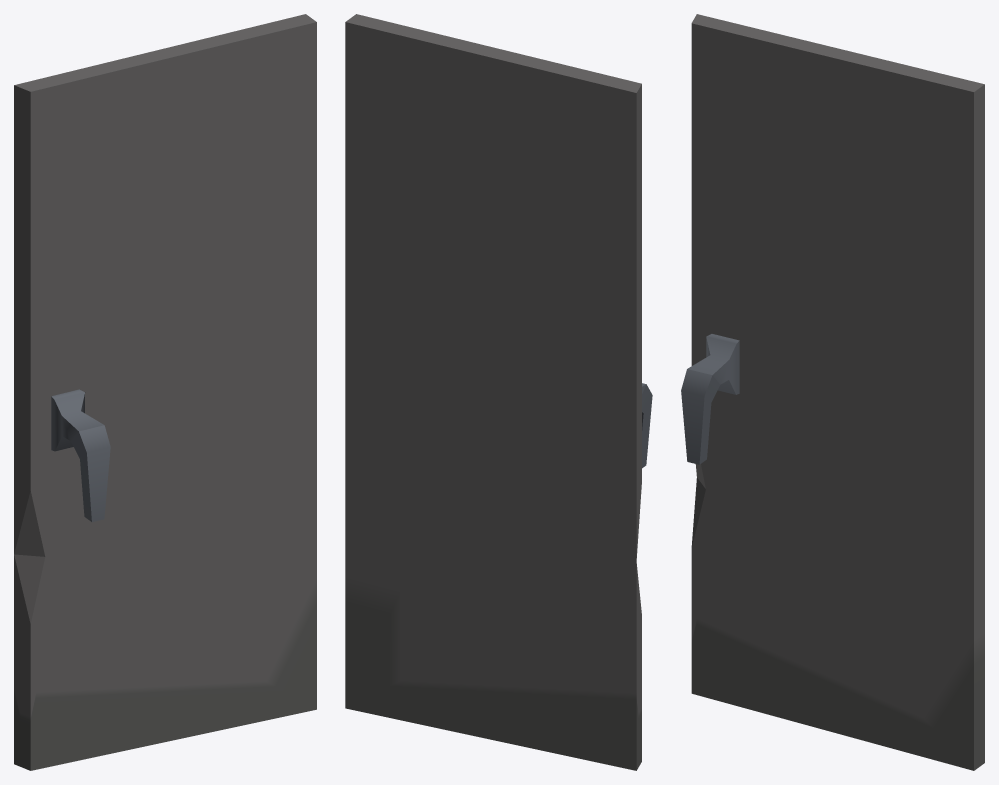
The model's file is SM_Prop_Cabinet_Small_Door_02.fbx.
The picture shows the model from 3 angles, left to right: view 1: azimuth 30°, elevation 25°; view 2: azimuth 150°, elevation 25°; view 3: azimuth 330°, elevation 25°; orthographic projection.
Visible parts, largest first — view 1: SM_Prop_Cabinet_Small_Door_02; view 2: SM_Prop_Cabinet_Small_Door_02; view 3: SM_Prop_Cabinet_Small_Door_02.
Boxes of the visible parts, x1,y1,x2,y2 form: SM_Prop_Cabinet_Small_Door_02: [14, 14, 316, 770]; SM_Prop_Cabinet_Small_Door_02: [345, 14, 652, 770]; SM_Prop_Cabinet_Small_Door_02: [681, 14, 984, 770].
Bounding box in the file's own units: 49.37 × 111 × 13.01.
